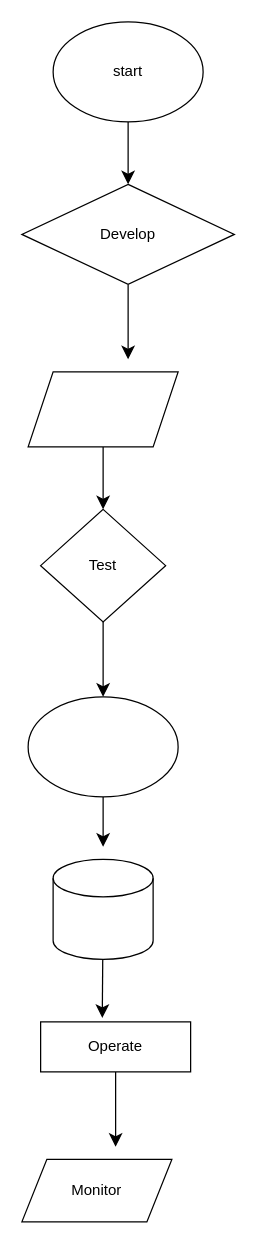
This 256x1244 diagram has some shape labels left out. The shapes that lost their labels are listed below. From the top down, each one's centre as x and y in pixels, then its label:
the point at 102,409: Build
the point at 102,746: Release
the point at 102,908: Deploy
